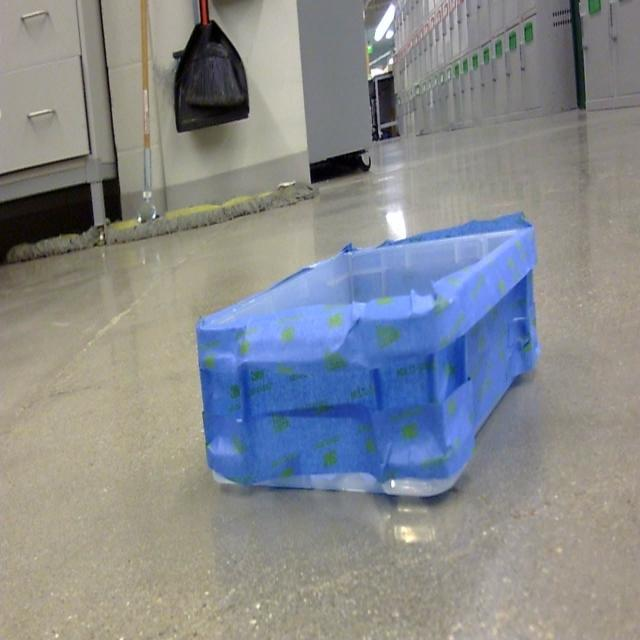bucket: (196, 213, 540, 501)
